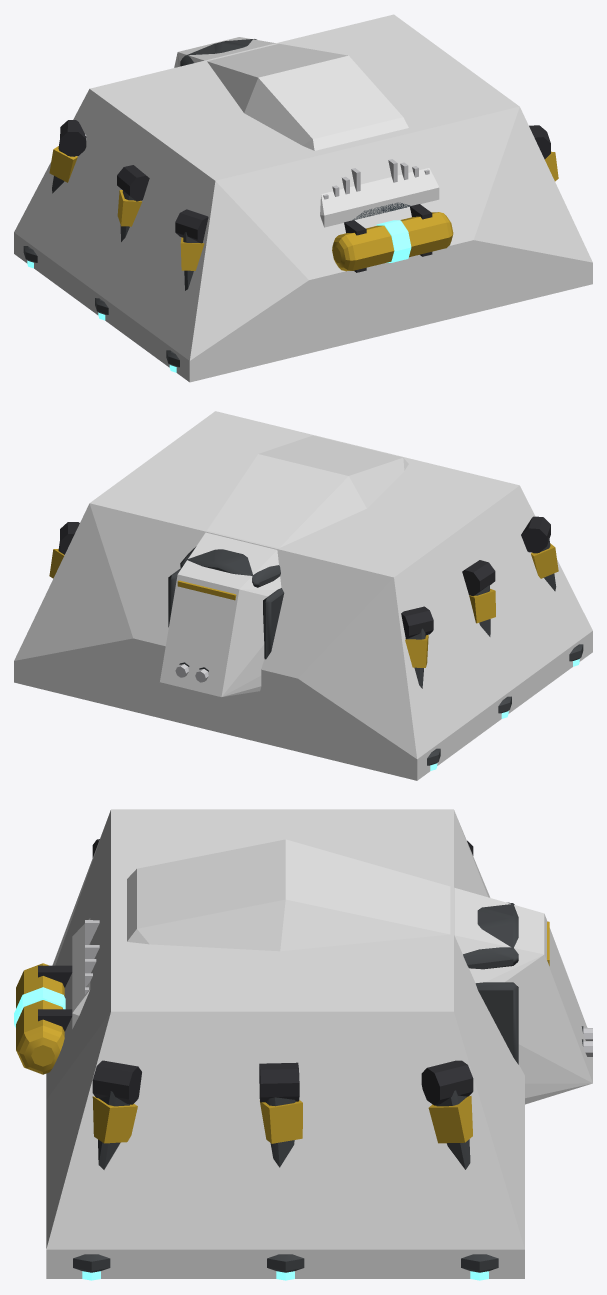
The model's file is crawler.glb.
The picture shows the model from 3 angles, top to bottom: view 1: azimuth 30°, elevation 25°; view 2: azimuth 150°, elevation 25°; view 3: azimuth 270°, elevation 25°; orthographic projection. The views are drawn at different scales.
Parts seen in each view (by area): view 1: COL_legs, COL_body, affix_volatile_canister, leg_rl, leg_fl, leg_ml, affix_overclock_radiators, leg_rr, affix_armour_head; view 2: COL_legs, COL_body, affix_armour_head, leg_ml, leg_rl, leg_fl, head, leg_fr; view 3: COL_legs, COL_body, affix_volatile_canister, leg_fr, leg_rr, affix_armour_head, leg_mr, affix_overclock_radiators.
Part boxes in pixels (x1=…): COL_legs: x1=14, y1=14, x2=592, y2=382; COL_body: x1=174, y1=37, x2=439, y2=227; affix_volatile_canister: x1=332, y1=204, x2=453, y2=272; leg_rl: x1=166, y1=209, x2=208, y2=372; leg_fl: x1=23, y1=120, x2=86, y2=268; leg_ml: x1=95, y1=165, x2=149, y2=320; affix_overclock_radiators: x1=323, y1=159, x2=429, y2=199; leg_rr: x1=529, y1=125, x2=558, y2=181; affix_armour_head: x1=180, y1=39, x2=256, y2=66; COL_legs: x1=14, y1=411, x2=592, y2=780; COL_body: x1=160, y1=435, x2=408, y2=697; affix_armour_head: x1=168, y1=546, x2=284, y2=659; leg_ml: x1=462, y1=560, x2=511, y2=718; leg_rl: x1=521, y1=516, x2=583, y2=666; leg_fl: x1=401, y1=606, x2=440, y2=770; head: x1=175, y1=580, x2=236, y2=682; leg_fr: x1=49, y1=522, x2=79, y2=578; COL_legs: x1=46, y1=809, x2=524, y2=1278; COL_body: x1=72, y1=839, x2=592, y2=1104; affix_volatile_canister: x1=14, y1=963, x2=72, y2=1074; leg_fr: x1=421, y1=1060, x2=498, y2=1280; leg_rr: x1=73, y1=1060, x2=141, y2=1280; affix_armour_head: x1=463, y1=902, x2=518, y2=1064; leg_mr: x1=259, y1=1062, x2=304, y2=1280; affix_overclock_radiators: x1=85, y1=920, x2=99, y2=994.
Size of the model in its own units: 1 by 0.47 by 0.895.
